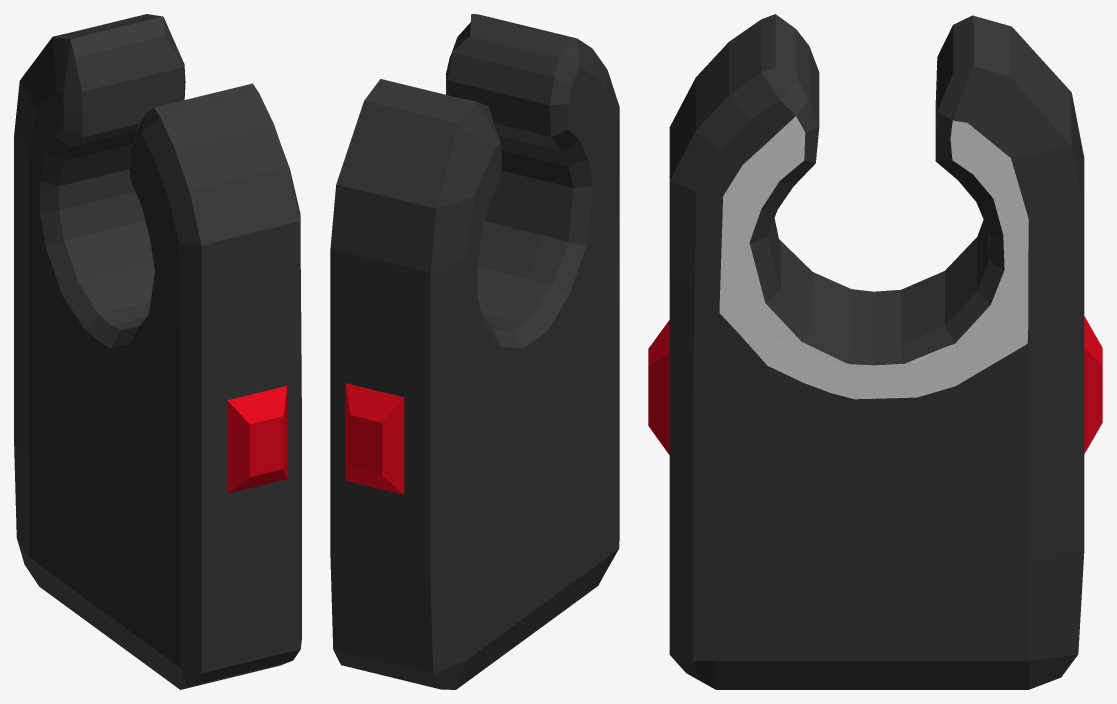
The model's file is ledx.glb.
The picture shows the model from 3 angles, left to right: view 1: azimuth 30°, elevation 25°; view 2: azimuth 150°, elevation 25°; view 3: azimuth 270°, elevation 25°; orthographic projection. The views are drawn at different scales.
Bounding box in the file's own units: 2 × 8.89 × 5.86.
